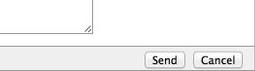button: (192, 51, 244, 69), (145, 52, 187, 69)
